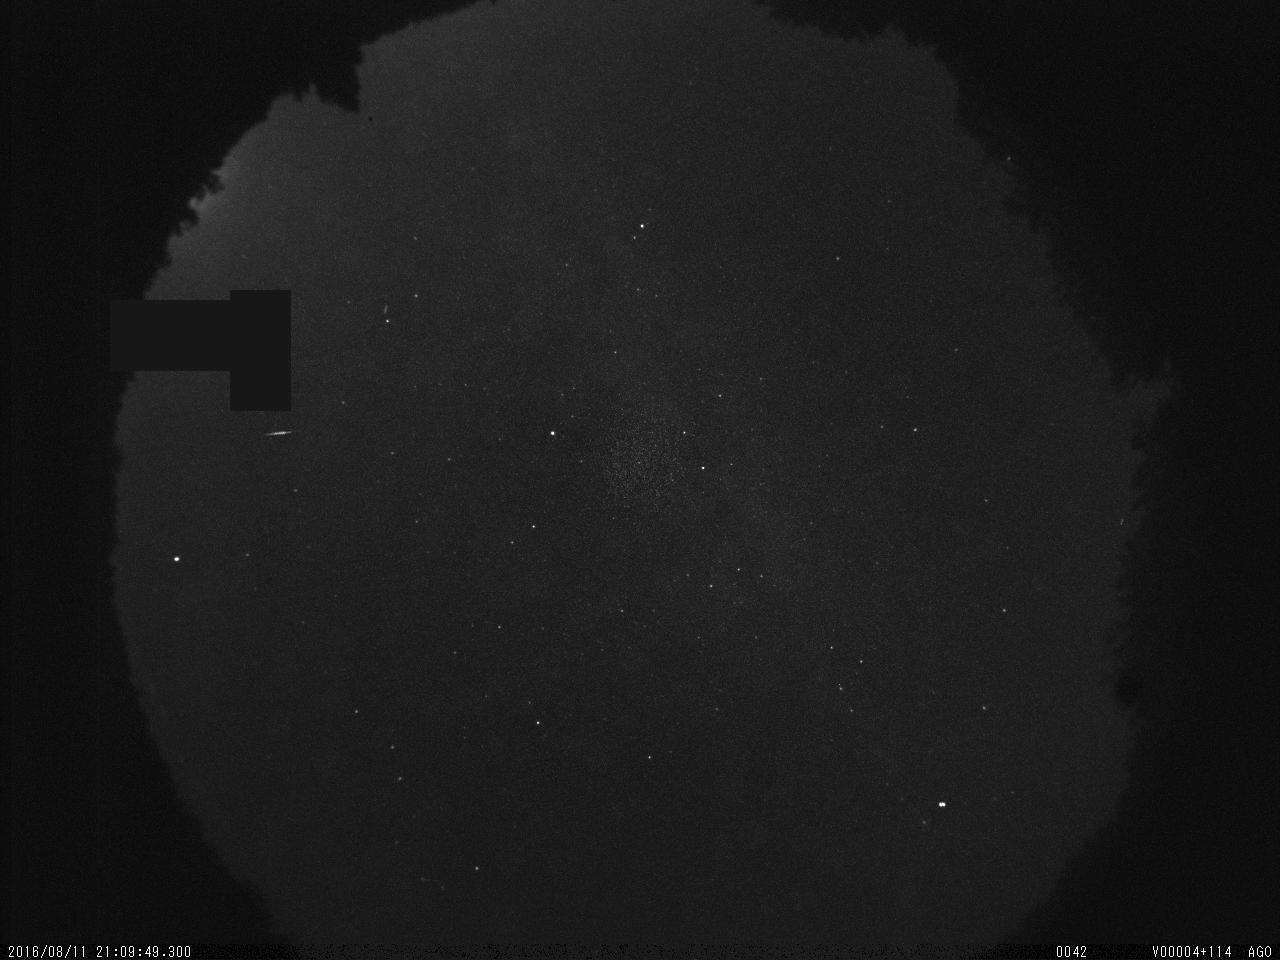Meteor: (257, 422, 300, 448)
